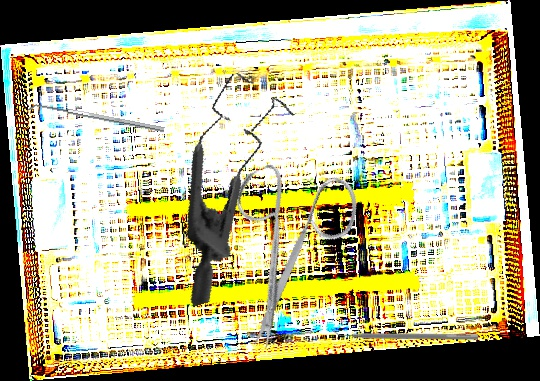Iris Scissors: (188, 137, 398, 353)
Spatula Surgical: (27, 100, 165, 138), (332, 328, 478, 340)
Speculum: (130, 60, 339, 308)
